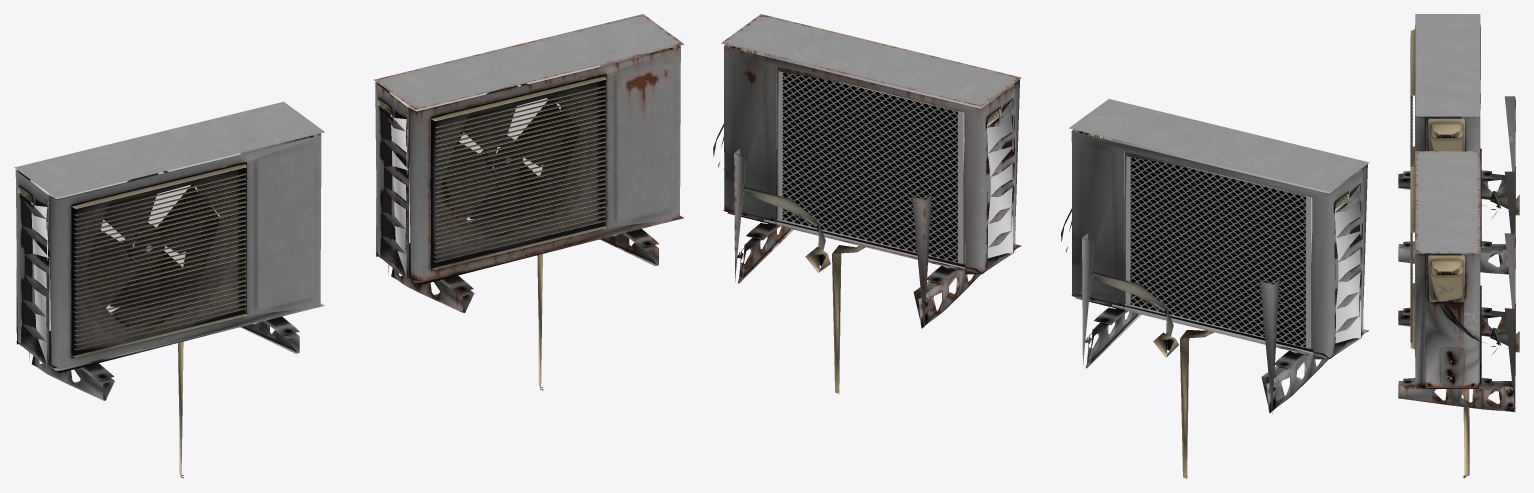
Rendered from aircon.glb.
3 renders of one model, left to right at view 1: azimuth 30°, elevation 25°; view 2: azimuth 150°, elevation 25°; view 3: azimuth 270°, elevation 25°, orthographic. The views are drawn at different scales.
Parts seen in each view (by area): view 1: aircon; view 2: aircon; view 3: aircon.
Part boxes in pixels (x1,y1,x2,y2): aircon: (14, 14, 684, 478); aircon: (713, 14, 1369, 478); aircon: (1398, 14, 1519, 478).
Size of the model in its own units: 1.36 by 0.694 by 0.2848.
4 materials, 4 textured.
